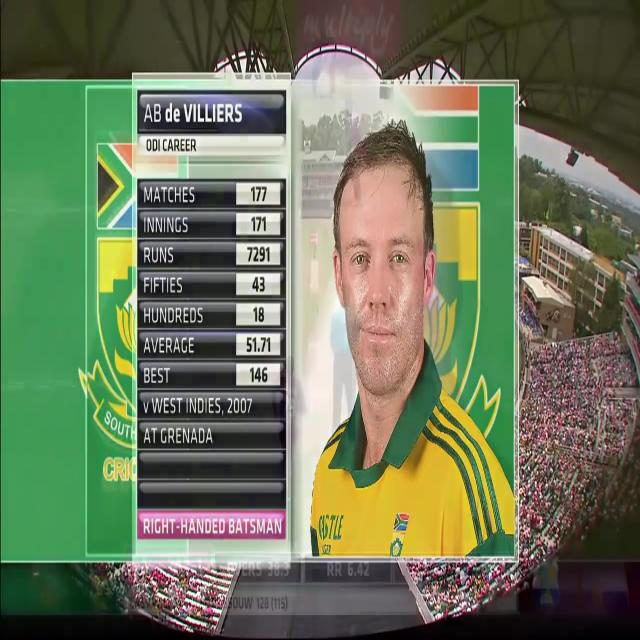Ball: (309, 127, 514, 554)
